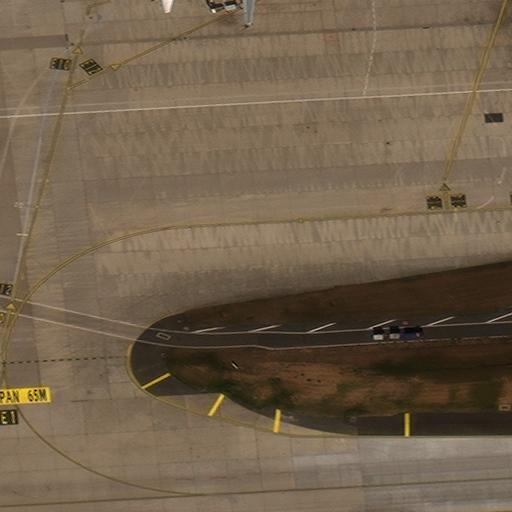Medium Civil Transport: (153, 0, 270, 24)
